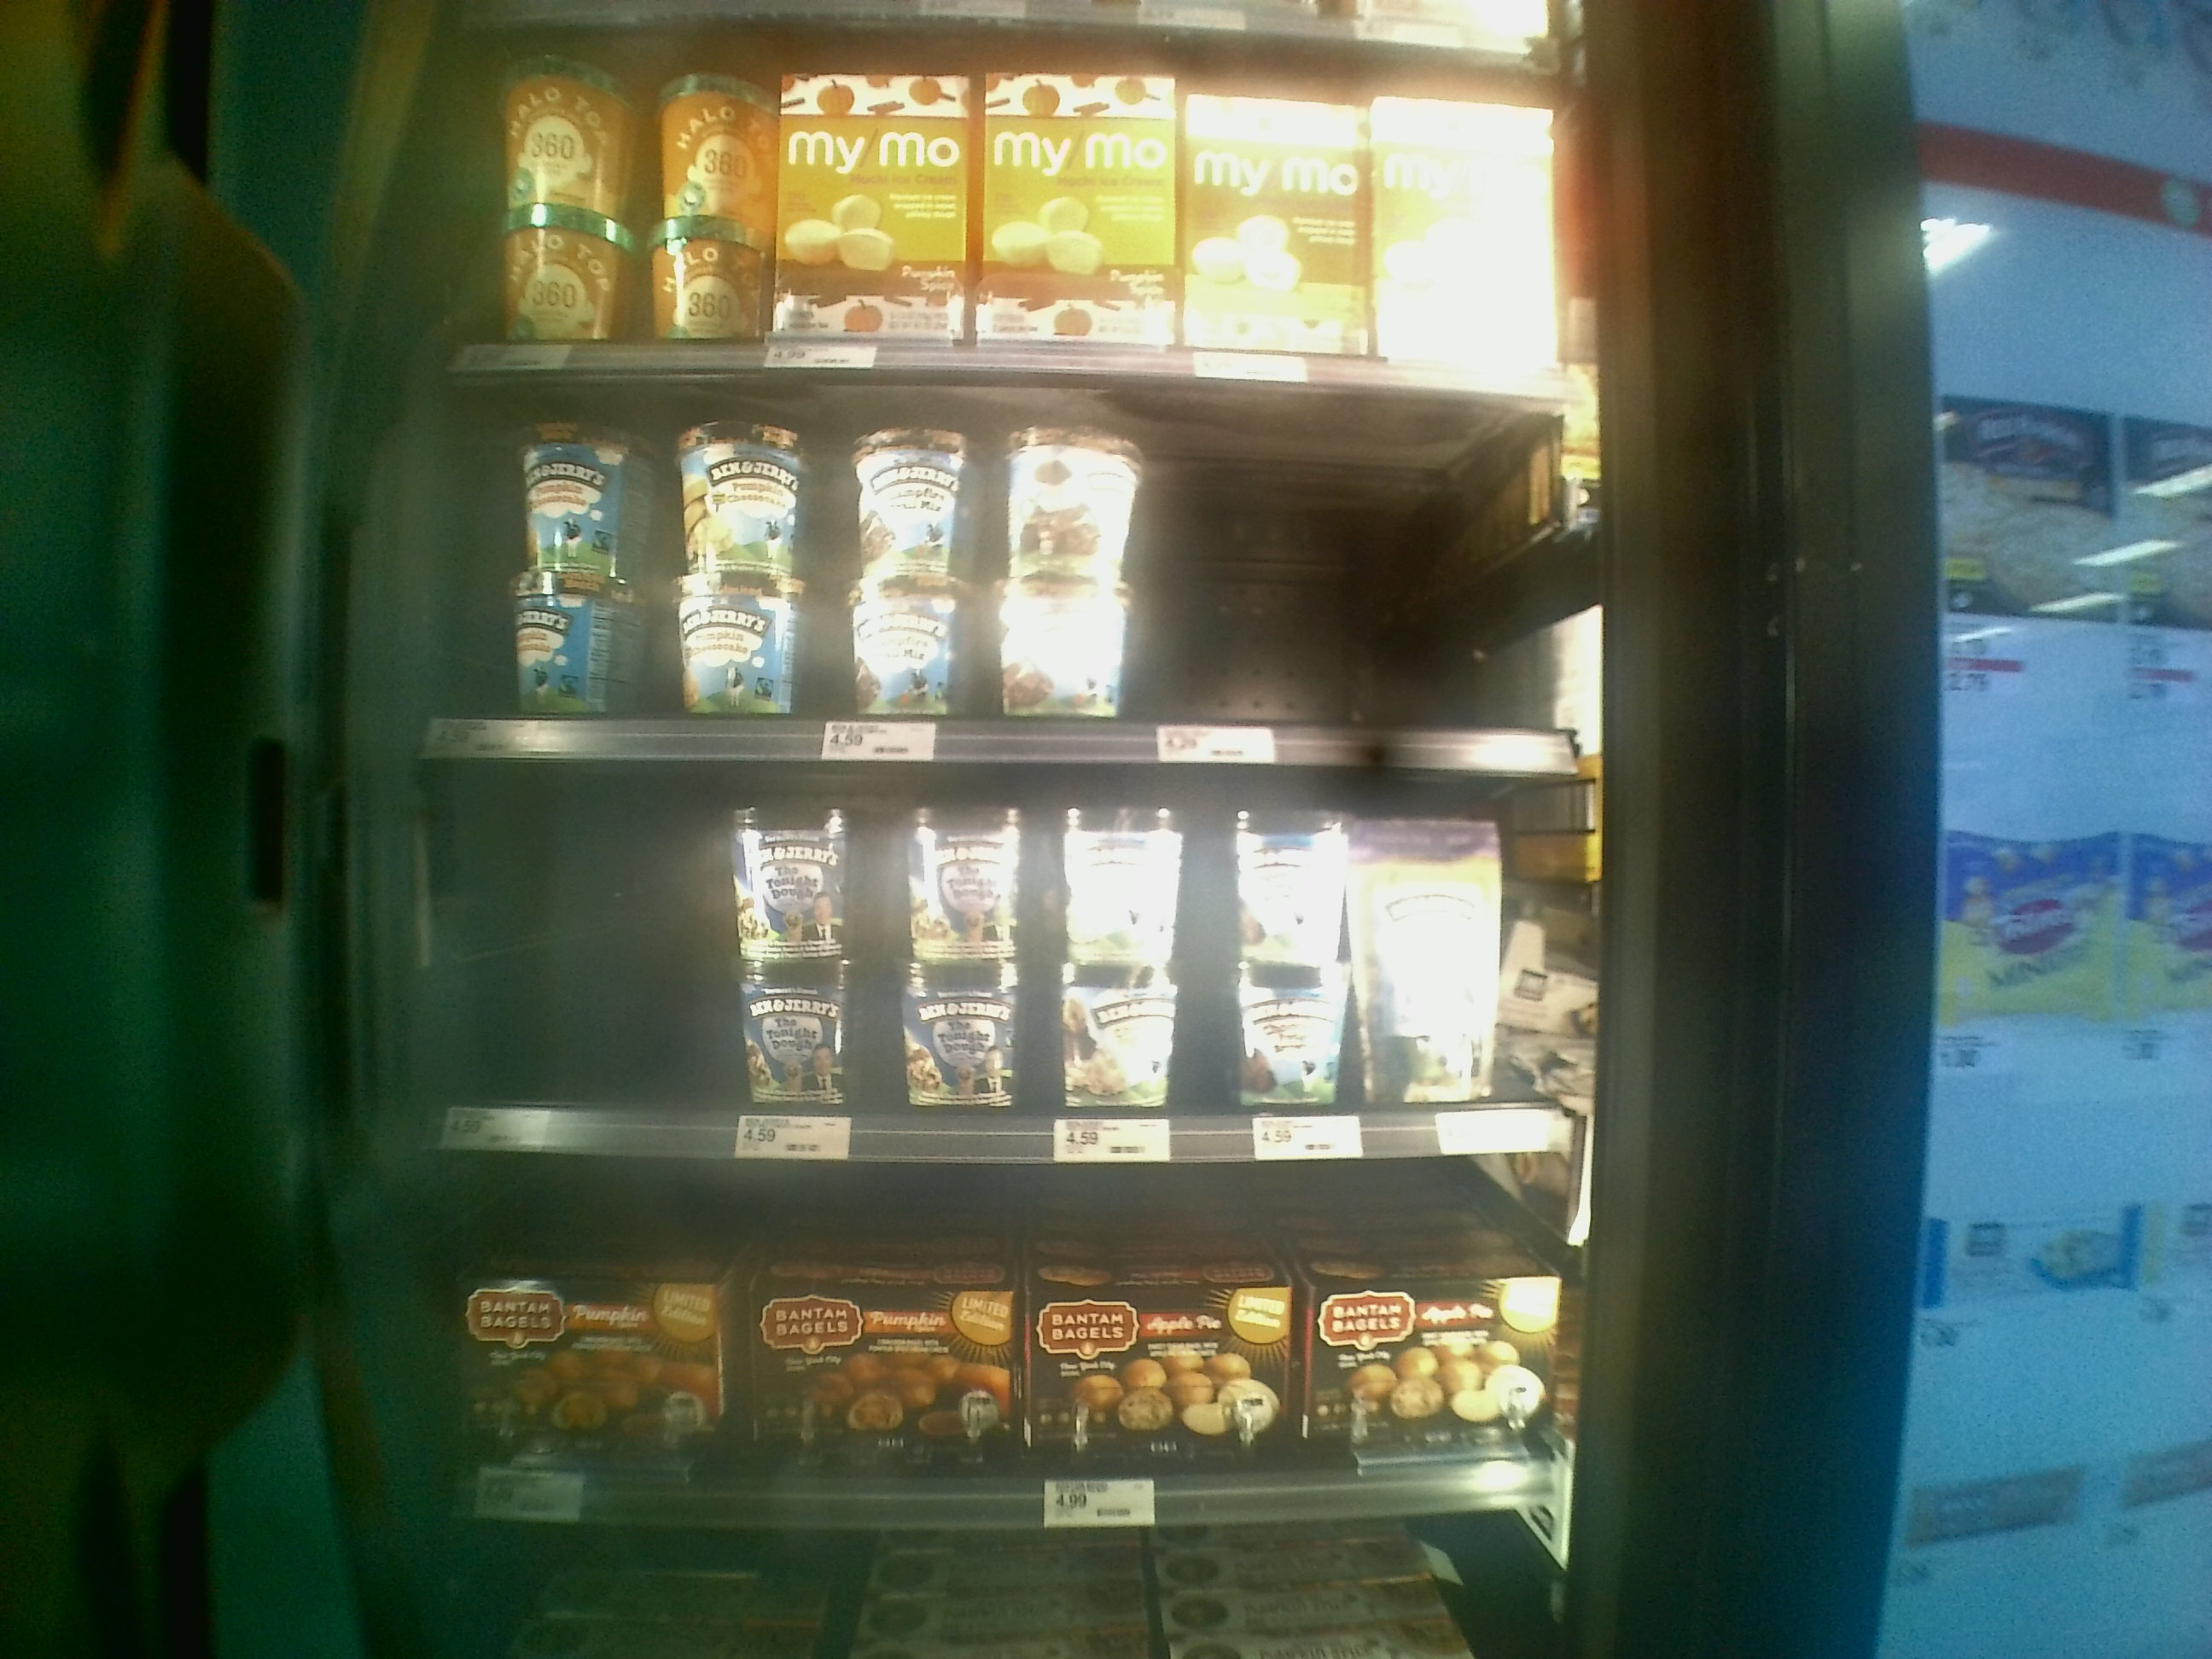shelf: (423, 364, 1609, 784), (402, 755, 1594, 1159), (388, 1129, 1588, 1527), (439, 26, 1587, 396)
